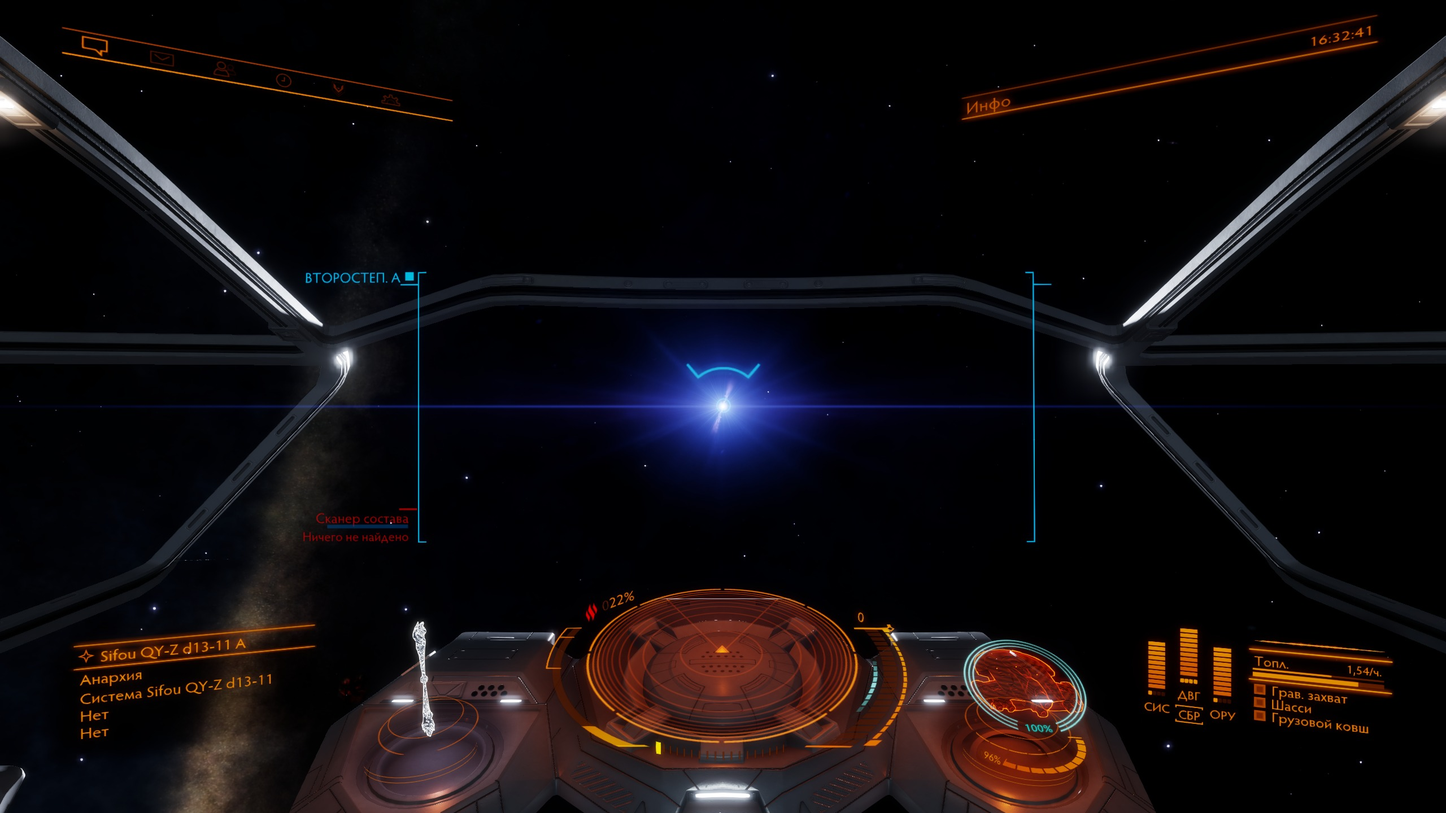core: (291, 586, 1157, 813)
jetcone: (664, 364, 779, 438), (163, 179, 228, 242)
